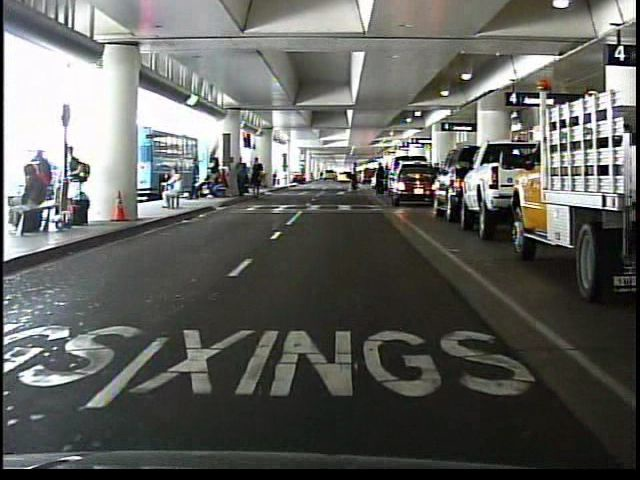person: (157, 168, 187, 213), (188, 156, 204, 203), (344, 160, 365, 195), (371, 158, 388, 200)
